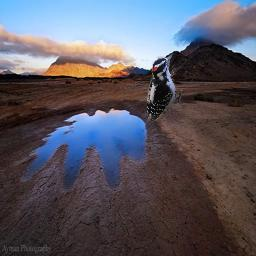Woodpecker: (147, 53, 184, 121)
